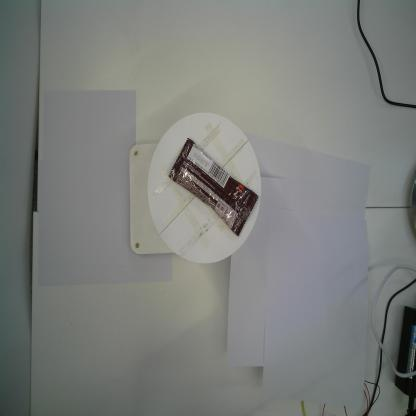Chocolate: (168, 136, 260, 238)
